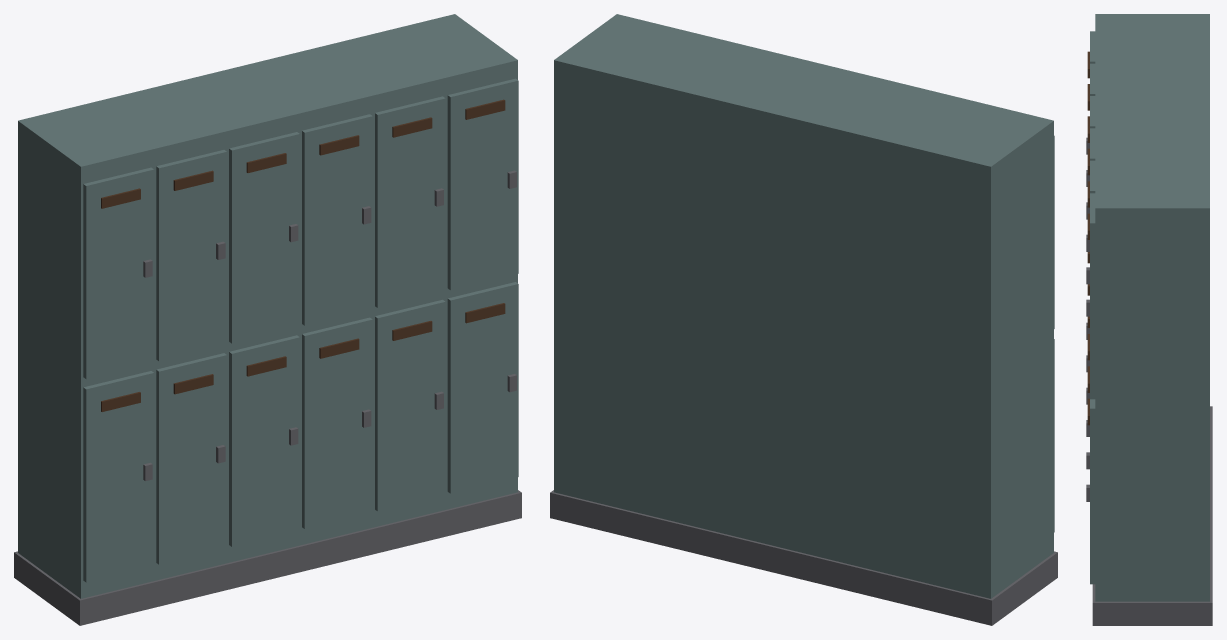
The model's file is SM_P2_Locker_Bank_A.obj.
3 renders of one model, left to right at view 1: azimuth 30°, elevation 25°; view 2: azimuth 150°, elevation 25°; view 3: azimuth 270°, elevation 25°, orthographic. The views are drawn at different scales.
Parts seen in each view (by area): view 1: carcass, plinth, door_0_0, door_0_1, door_5_1, door_5_0, door_2_0, door_2_1, door_3_0, door_4_1, door_3_1, door_1_1 (+2 smaller); view 2: carcass, plinth; view 3: carcass, plinth, door_5_1, door_5_0, door_4_1.
Boxes of the visible parts, x1,y1,x2,y2 form: carcass: (18,14,517,598); plinth: (14,490,521,625); door_0_0: (83,371,154,582); door_0_1: (83,167,154,379); door_5_1: (447,78,518,290); door_5_0: (447,282,518,493); door_2_0: (229,335,299,546); door_2_1: (229,132,299,343); door_3_0: (302,317,372,528); door_4_1: (375,96,445,307); door_3_1: (302,114,372,325); door_1_1: (156,150,226,361); carcass: (554,14,1053,598); plinth: (550,490,1057,625); carcass: (1095,14,1209,601); plinth: (1092,406,1212,625); door_5_1: (1090,193,1095,399); door_5_0: (1090,399,1095,584); door_4_1: (1090,160,1095,193).
Size of the model in its own units: 1.82 by 1.8 by 0.495.
